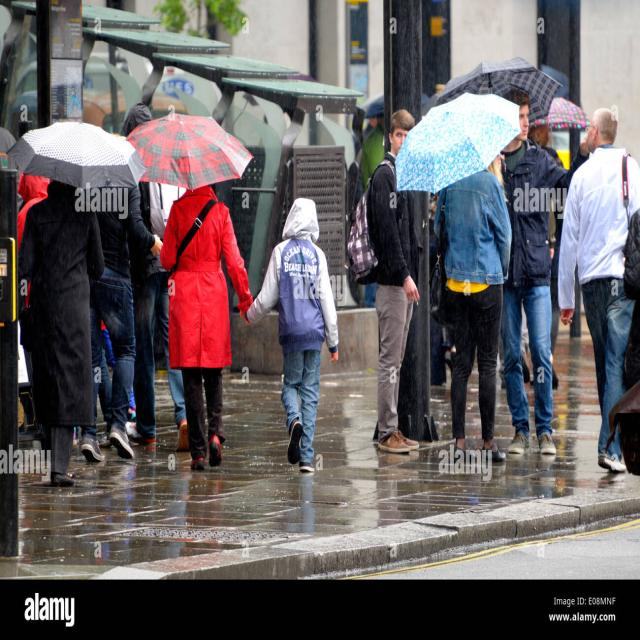Walking: (19, 155, 114, 495), (166, 141, 258, 473), (272, 199, 340, 474)
loitering: (496, 69, 570, 451), (354, 88, 429, 464), (440, 129, 518, 472)
